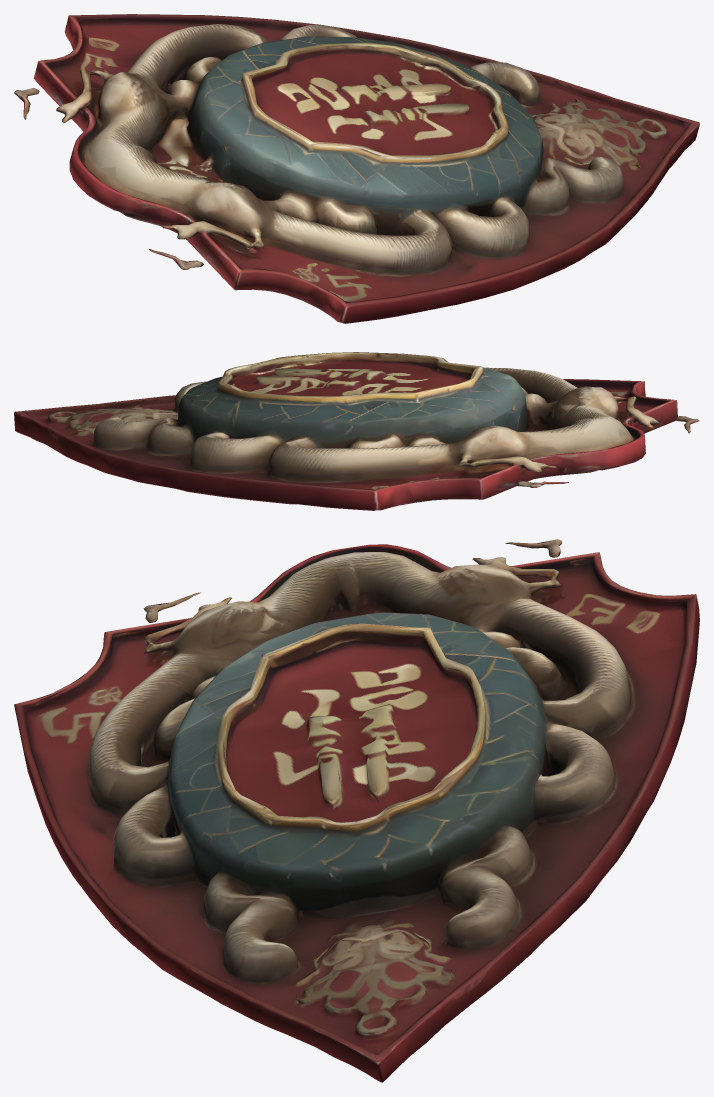
Rendered from Chinese new year shield.fbx.
3 views of the same model, one above another, from view 1: azimuth 30°, elevation 25°; view 2: azimuth 150°, elevation 25°; view 3: azimuth 270°, elevation 25° (orthographic). The views are drawn at different scales.
Parts seen in each view (by area): view 1: model.011; view 2: model.011; view 3: model.011.
Part boxes in pixels (bbox=[...]): model.011: bbox=[14, 14, 699, 323]; model.011: bbox=[14, 352, 699, 510]; model.011: bbox=[14, 539, 699, 1082].
Bounding box in the file's own units: 72.65 × 17.53 × 55.66.
